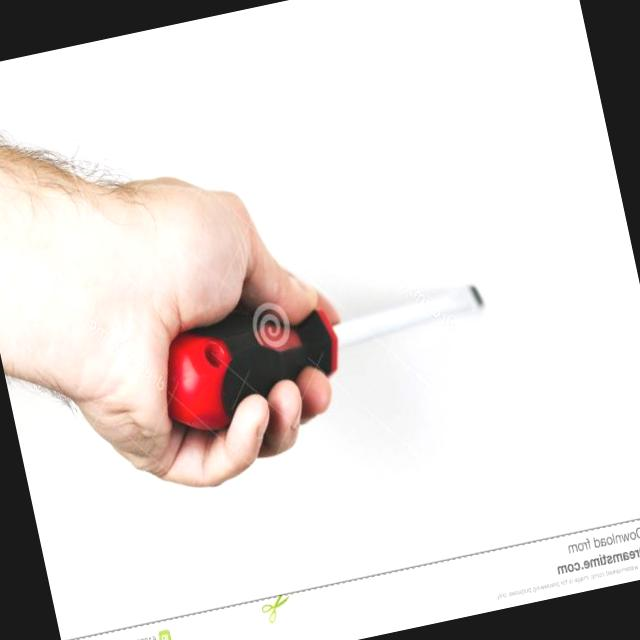screwdriver: (169, 284, 483, 430)
